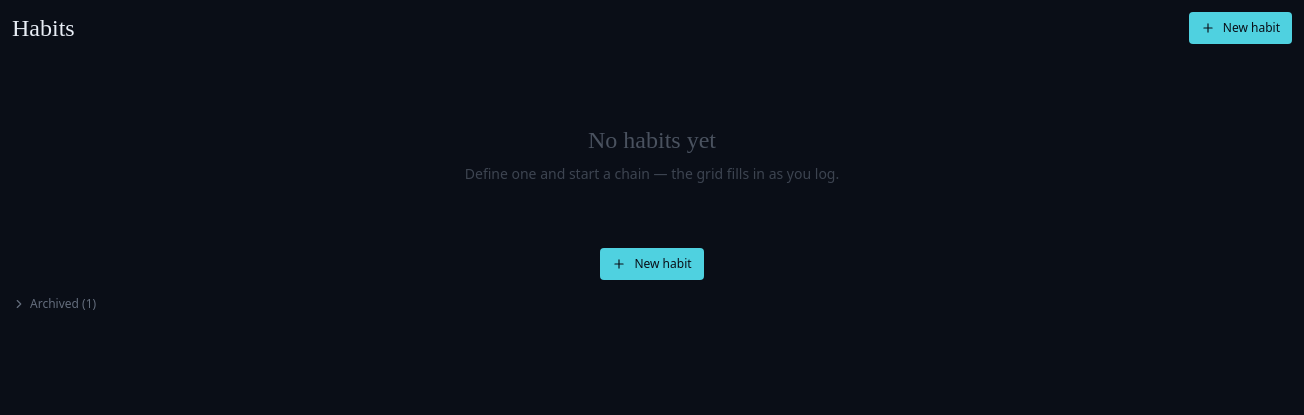
HabitsView — archive and the Archived section › brings a habit back to the list from the Archived section
The image size is (1304, 415).
Click the button "Archived (1)". click: (54, 304)
box: [12,296,96,312]
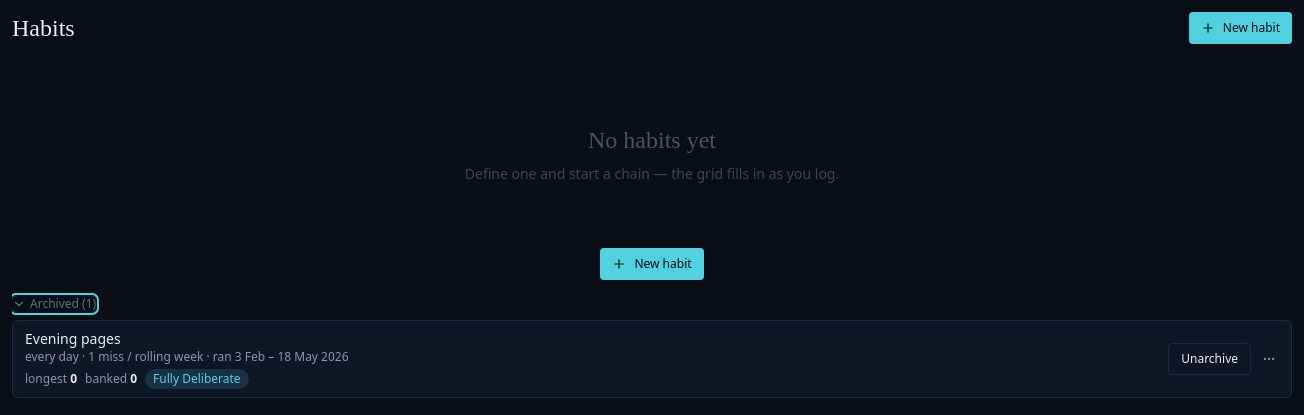
Click the button "Unarchive". click: (1210, 359)
box: [1168,343,1251,375]
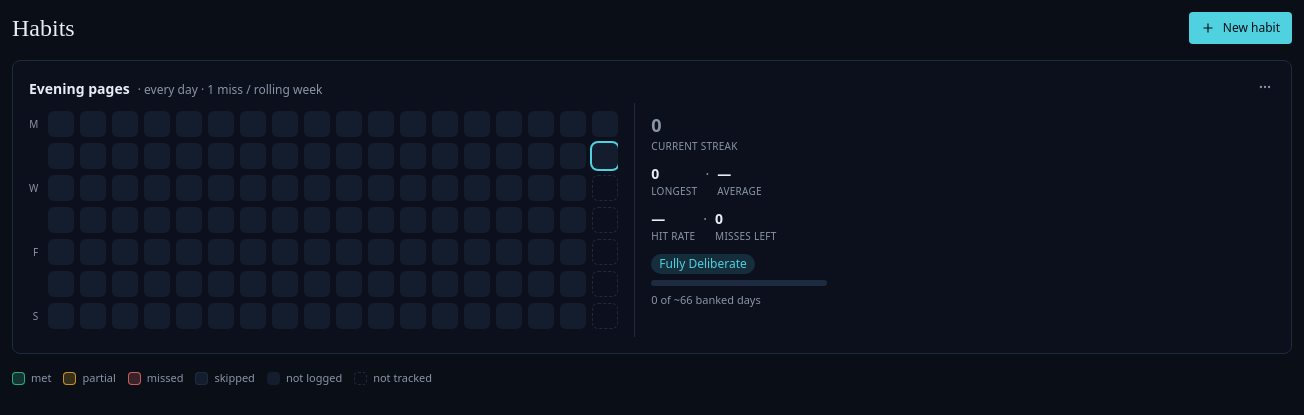
Check: the heading "Evening pages" is shown, box [29,79,130,99]
Check: the button "Archived" is gone
